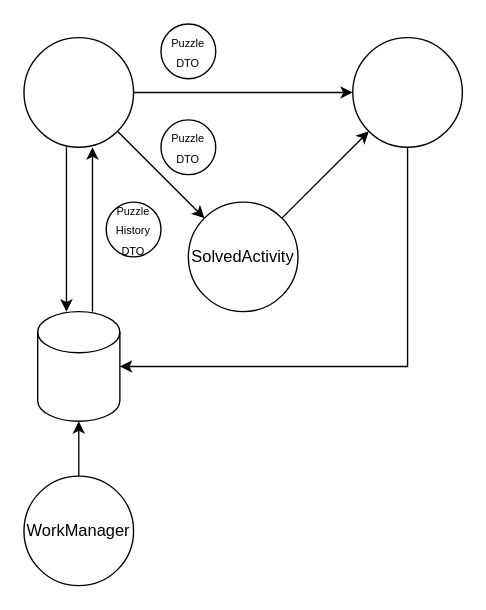
Some shapes in this 486 by 610 pixel diagram are drawn without their labels. The shapes that lost their labels are listed below. From the top down, each one's box as (x1, y1, x2, y2) in pixels, then its label:
(23, 36, 134, 147): HistoryActivity
(351, 36, 462, 147): PuzzleActivity
(36, 310, 120, 421): Room
